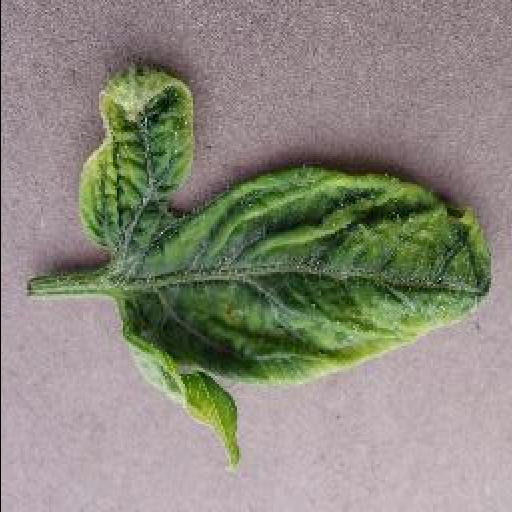disease_tomato: (72, 66, 496, 467)
